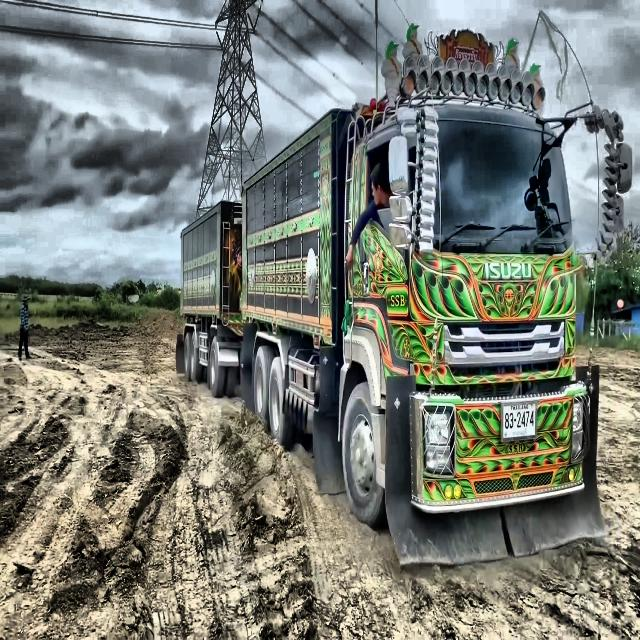trailer: (180, 26, 587, 530)
